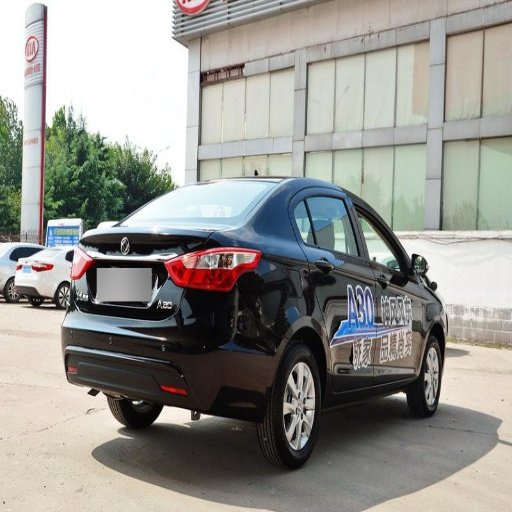back_bumper: (65, 284, 284, 416)
back_right_door: (289, 186, 375, 389)
back_right_light: (168, 249, 260, 290)
